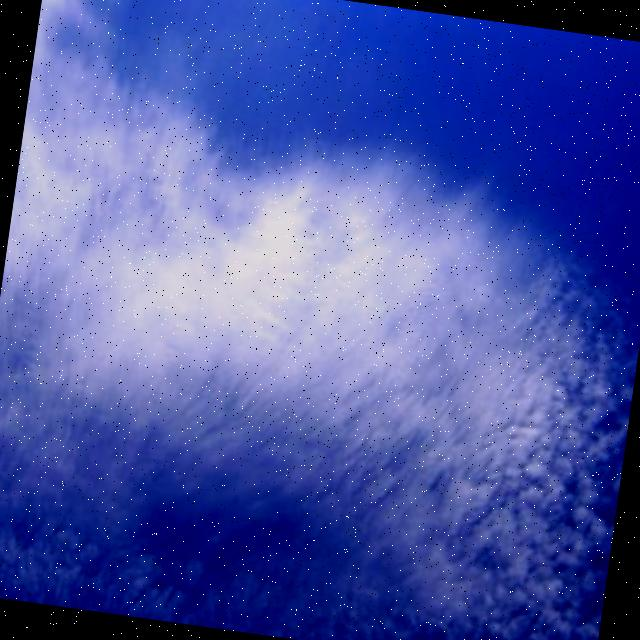Cc: (1, 86, 640, 640)
